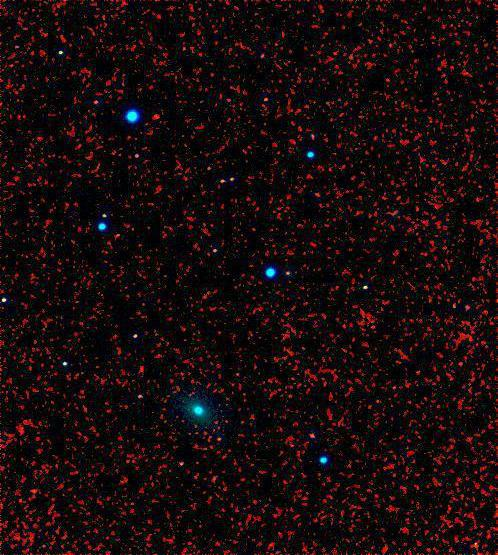star: (139, 103, 169, 133)
